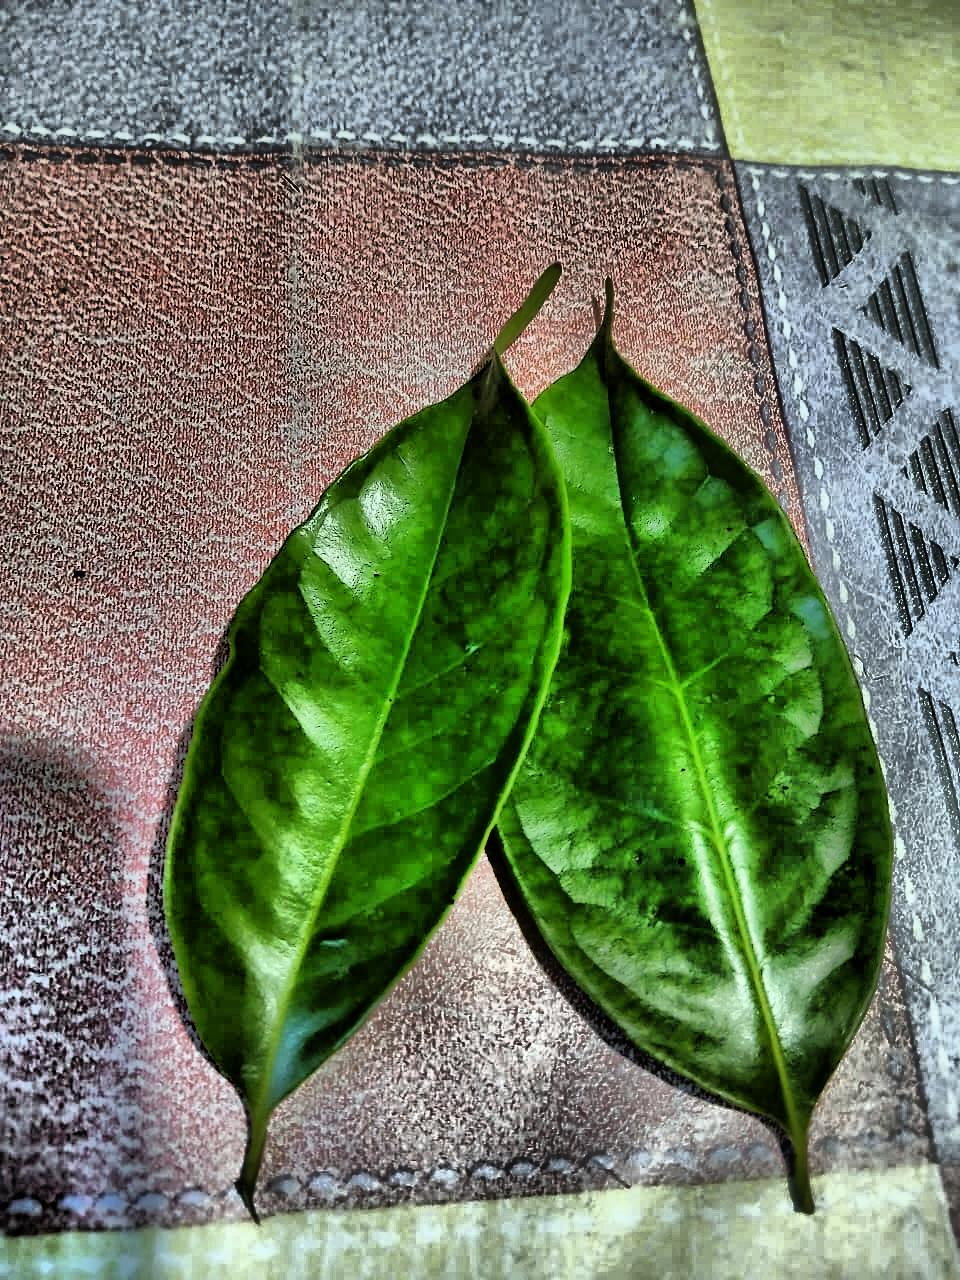daun salam: (165, 281, 891, 1210)
